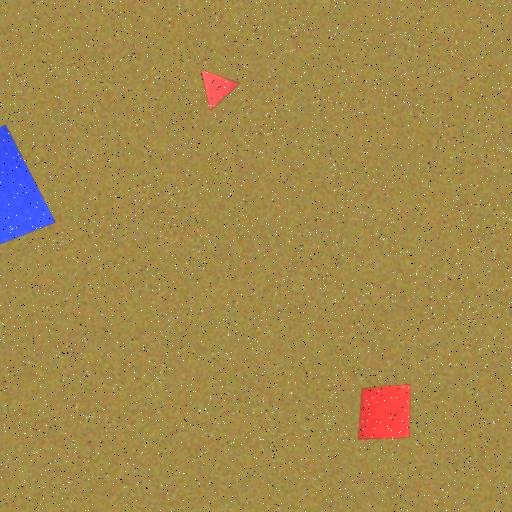BLUE_SQUARE: (0, 124, 57, 255)
RED_SQUARE: (358, 383, 411, 440)
